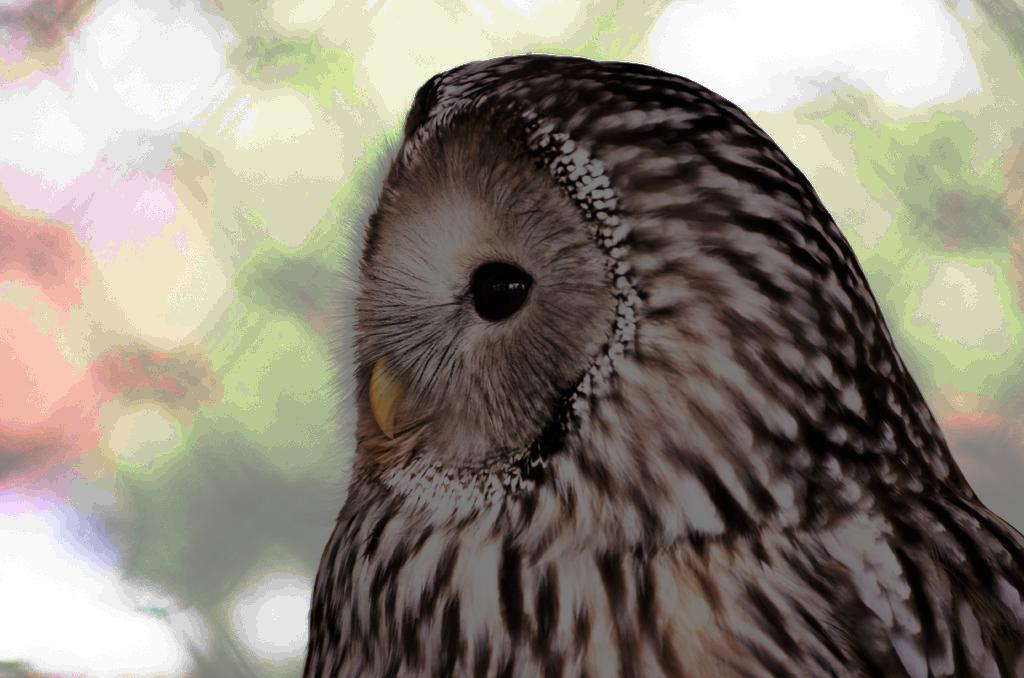Owl: (302, 53, 1023, 677)
